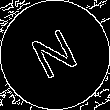N_SE: (26, 23, 84, 87)
